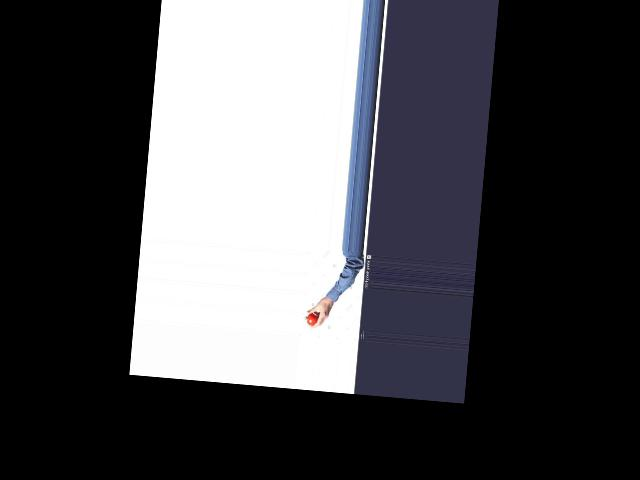tomato: (307, 313, 317, 326)
